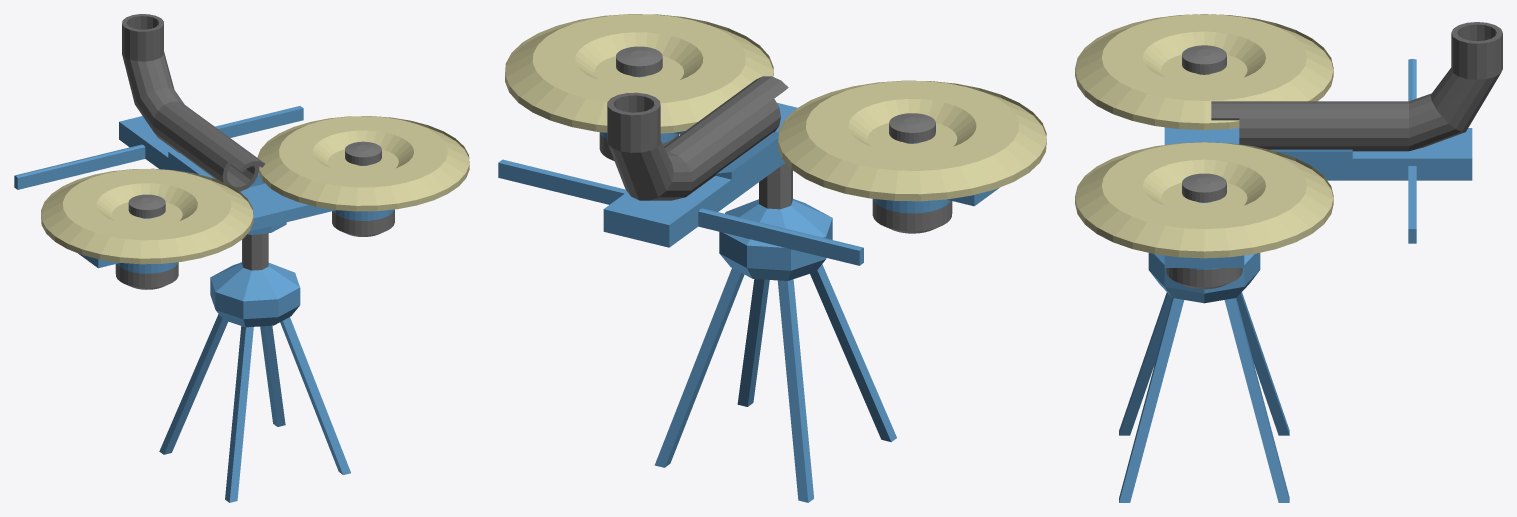
The model's file is Baseball_Pitcher.fbx.
3 renders of one model, left to right at view 1: azimuth 30°, elevation 25°; view 2: azimuth 150°, elevation 25°; view 3: azimuth 270°, elevation 25°, orthographic. The views are drawn at different scales.
Visible parts, largest first — view 1: Cylinder, Cube.002, Cylinder.001, Cylinder.002; view 2: Cylinder, Cylinder.001, Cube.002, Cylinder.002; view 3: Cylinder, Cylinder.002, Cylinder.001, Cube.002.
Boxes of the visible parts, box(x1,y1,x2,y2) form: Cylinder: box(41, 116, 469, 264); Cube.002: box(159, 222, 350, 502); Cylinder.001: box(14, 106, 394, 289); Cylinder.002: box(122, 14, 265, 191); Cylinder: box(505, 14, 1046, 201); Cylinder.001: box(498, 46, 999, 265); Cube.002: box(654, 163, 896, 502); Cylinder.002: box(607, 76, 788, 200); Cylinder: box(1075, 14, 1333, 258); Cylinder.002: box(1211, 22, 1502, 151); Cylinder.001: box(1164, 45, 1472, 289); Cube.002: box(1119, 253, 1289, 502).
Bounding box in the file's own units: 1409 × 1200 × 1073.
